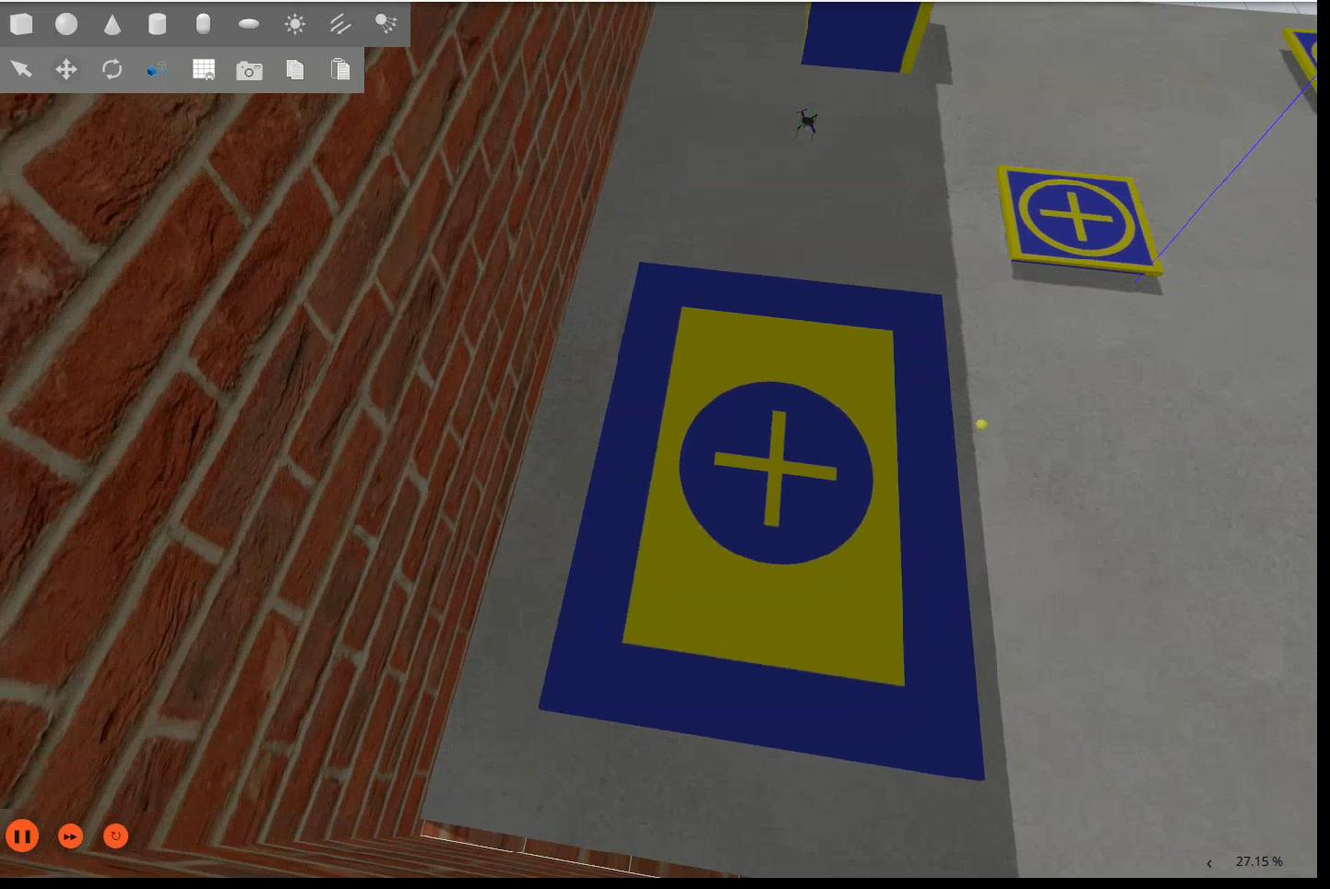large_base: (540, 259, 989, 785)
small_base: (1001, 160, 1169, 278)
